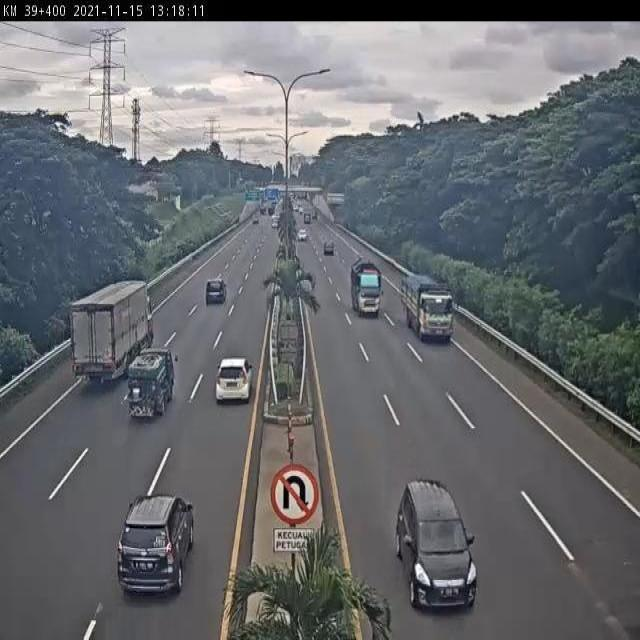Car: (393, 476, 479, 614), (117, 493, 195, 601), (216, 358, 254, 402), (206, 277, 228, 305), (323, 242, 334, 256), (297, 228, 307, 240)
Truck: (68, 280, 155, 389), (401, 271, 456, 343), (128, 348, 176, 426), (348, 257, 382, 315), (304, 212, 310, 224)
